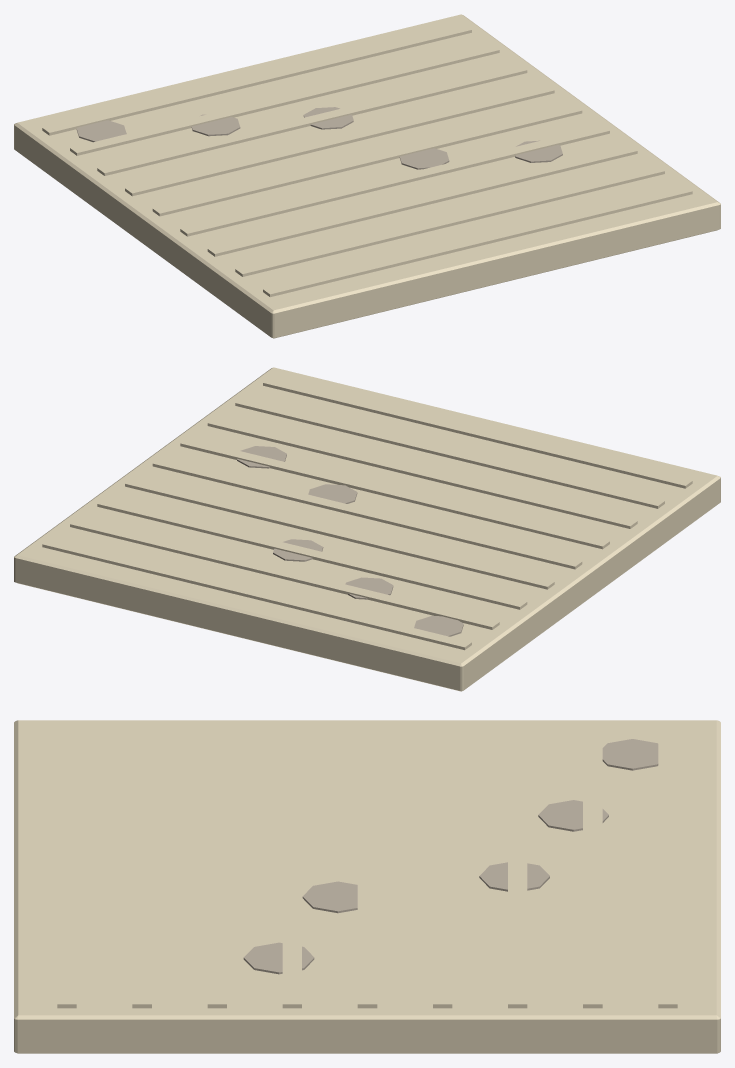
Rendered from roman-bathhouse-and-palaestra-palaestra-sand-court-mod-197c43d7__37904.glb.
3 renders of one model, top to bottom at view 1: azimuth 30°, elevation 25°; view 2: azimuth 150°, elevation 25°; view 3: azimuth 270°, elevation 25°, orthographic. The views are drawn at different scales.
Parts seen in each view (by area): view 1: palaestra-sand-court-module; view 2: palaestra-sand-court-module; view 3: palaestra-sand-court-module.
Boxes of the visible parts, bbox=[...] form: palaestra-sand-court-module: bbox=[14, 14, 720, 338]; palaestra-sand-court-module: bbox=[14, 367, 720, 691]; palaestra-sand-court-module: bbox=[14, 720, 720, 1053].
Bounding box in the file's own units: 2 × 0.1321 × 2.
